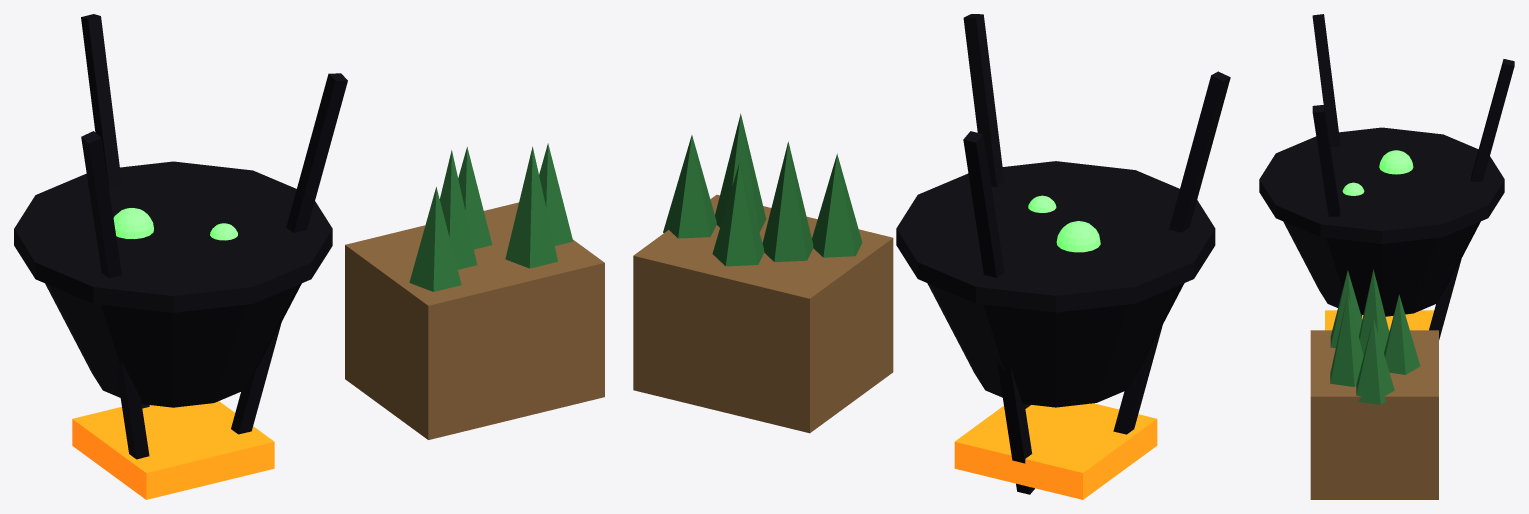
The model's file is shop_alchemy_yard.gltf.
The picture shows the model from 3 angles, left to right: view 1: azimuth 30°, elevation 25°; view 2: azimuth 150°, elevation 25°; view 3: azimuth 270°, elevation 25°; orthographic projection. The views are drawn at different scales.
Parts seen in each view (by area): view 1: ShopAlchemyYardShopIron, ShopAlchemyYardShopWoodLight, ShopAlchemyYardShopEmber, ShopAlchemyYardShopGreen, ShopAlchemyYardShopPotionGreen; view 2: ShopAlchemyYardShopIron, ShopAlchemyYardShopWoodLight, ShopAlchemyYardShopGreen, ShopAlchemyYardShopEmber, ShopAlchemyYardShopPotionGreen; view 3: ShopAlchemyYardShopIron, ShopAlchemyYardShopWoodLight, ShopAlchemyYardShopGreen, ShopAlchemyYardShopPotionGreen, ShopAlchemyYardShopEmber.
Boxes of the visible parts, <box> form: ShopAlchemyYardShopIron: <box>14,14,347,459</box>; ShopAlchemyYardShopWoodLight: <box>345,202,604,439</box>; ShopAlchemyYardShopEmber: <box>72,401,274,499</box>; ShopAlchemyYardShopGreen: <box>409,143,573,291</box>; ShopAlchemyYardShopPotionGreen: <box>113,208,237,240</box>; ShopAlchemyYardShopIron: <box>896,14,1230,494</box>; ShopAlchemyYardShopWoodLight: <box>633,194,893,433</box>; ShopAlchemyYardShopGreen: <box>663,113,862,266</box>; ShopAlchemyYardShopEmber: <box>954,403,1157,499</box>; ShopAlchemyYardShopPotionGreen: <box>1028,195,1100,252</box>; ShopAlchemyYardShopIron: <box>1259,14,1514,339</box>; ShopAlchemyYardShopWoodLight: <box>1310,330,1438,499</box>; ShopAlchemyYardShopGreen: <box>1330,269,1420,404</box>; ShopAlchemyYardShopPotionGreen: <box>1342,150,1413,195</box>; ShopAlchemyYardShopEmber: <box>1325,310,1434,330</box>.
Size of what is drawn, in the model's own units: 1.66 by 1.18 by 0.8946.
